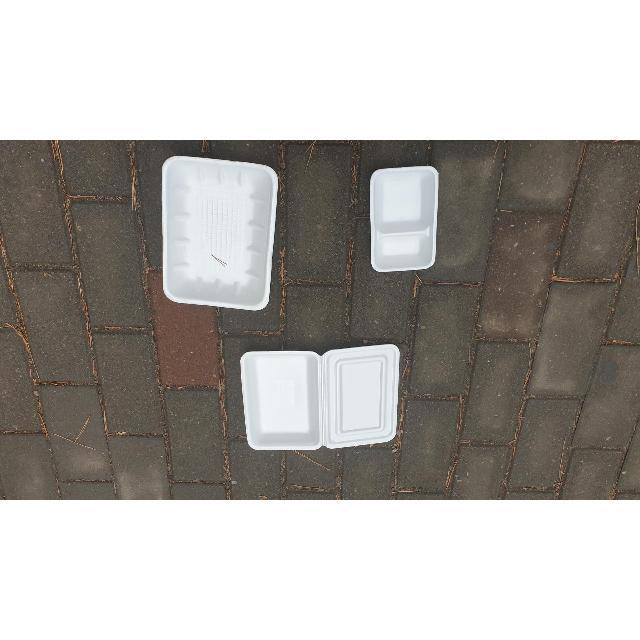Recipiente plastico: (162, 156, 276, 309), (241, 345, 400, 450), (324, 345, 400, 448), (370, 166, 439, 271)
